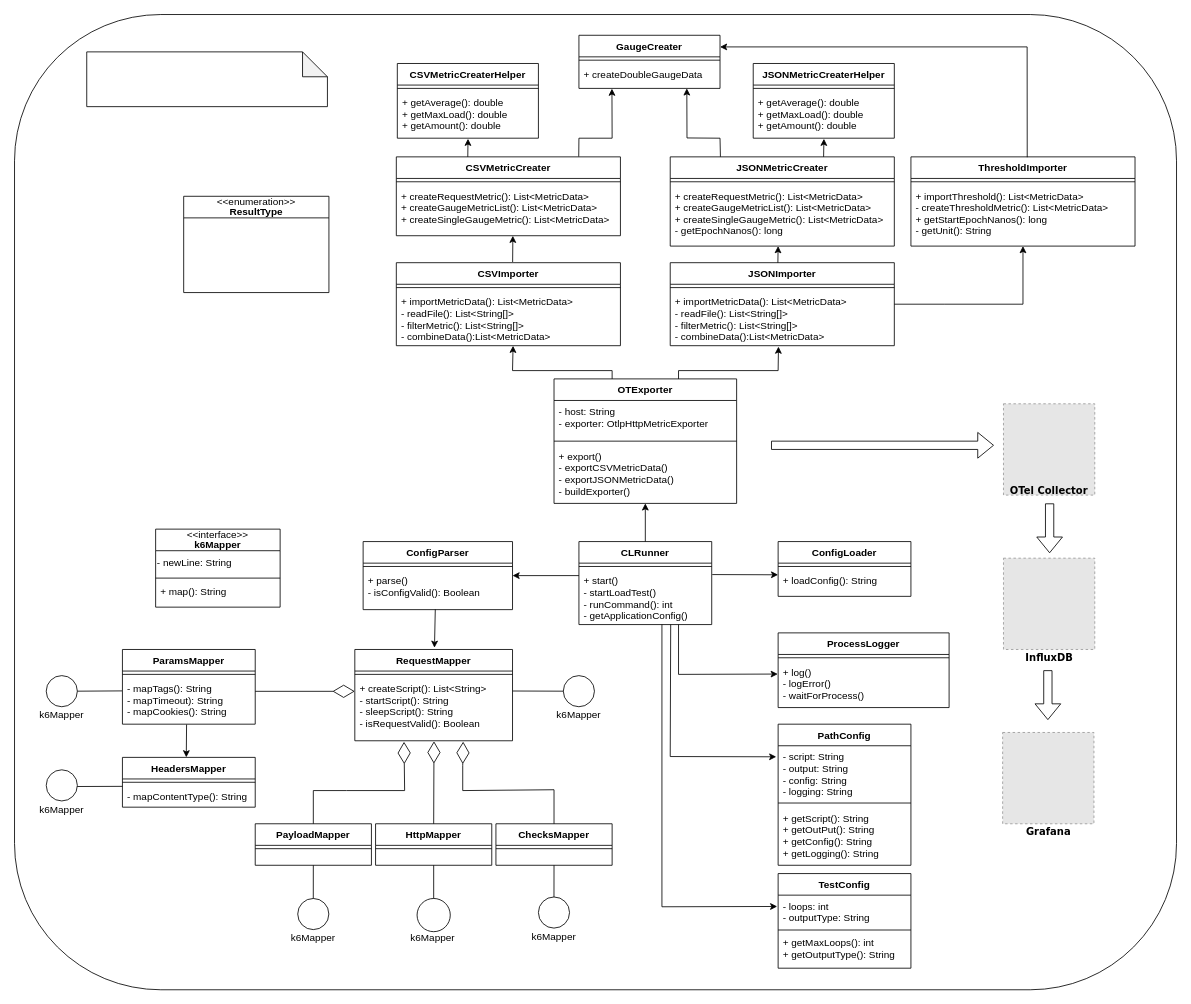
The diagram is 1191 pixels wide and 1004 high, and some of its shapes have lost their labels. Grey dashed boxes stand in for pictures. The centre of each missing label's shape, as x and y in pixels:
"CHECKS ITERATIONS ITERATION_DURATION HTTP_REQS MAX_LOAD" goes at (x=256, y=244).
"Simplified representation: Method parameters are not displayed" goes at (x=206, y=79).
